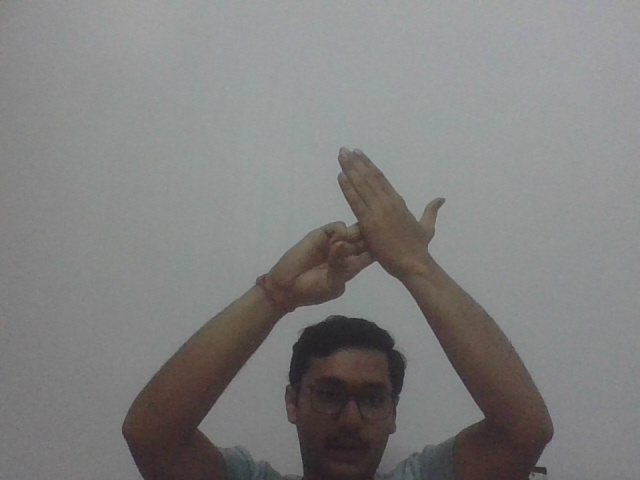M: (288, 144, 447, 303)
